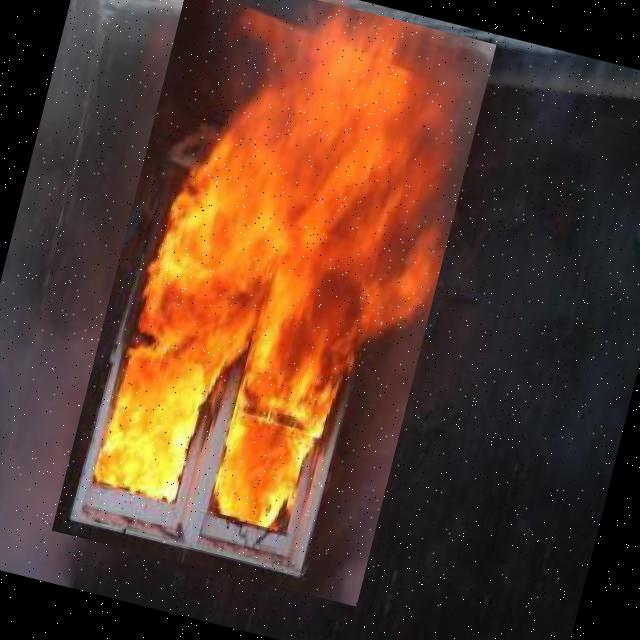fire: (51, 0, 496, 606)
